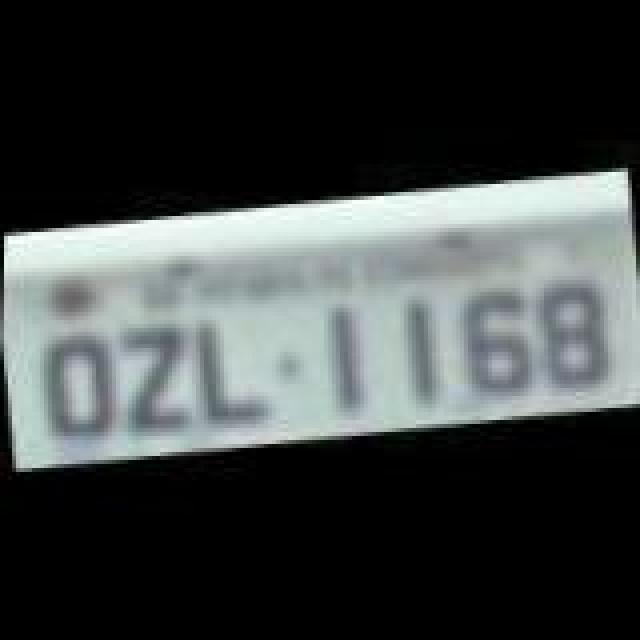1: (312, 298, 372, 414), (400, 290, 448, 406)
6: (452, 280, 540, 404)
8: (532, 270, 620, 394)
L: (184, 300, 276, 428)
O: (36, 326, 120, 442)
Z: (104, 318, 196, 438)
